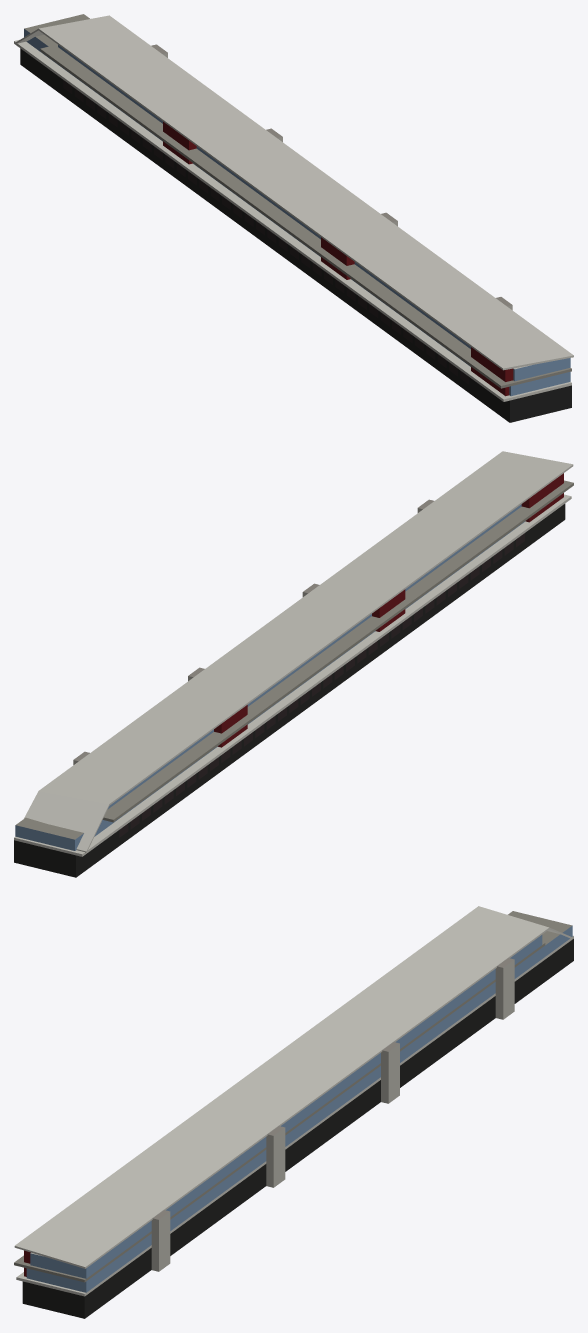
File: pit_building.glb
3 views of the same model, one above another, from view 1: azimuth 30°, elevation 25°; view 2: azimuth 150°, elevation 25°; view 3: azimuth 330°, elevation 25° (orthographic).
Parts seen in each view (by area): view 1: chunk_0_0; view 2: chunk_0_0; view 3: chunk_0_0.
Boxes of the visible parts, x1,y1,x2,y2 form: chunk_0_0: (14,14,573,422); chunk_0_0: (14,451,573,877); chunk_0_0: (14,906,573,1318).
Bounding box in the file's own units: 31.5 × 21.8 × 342.
